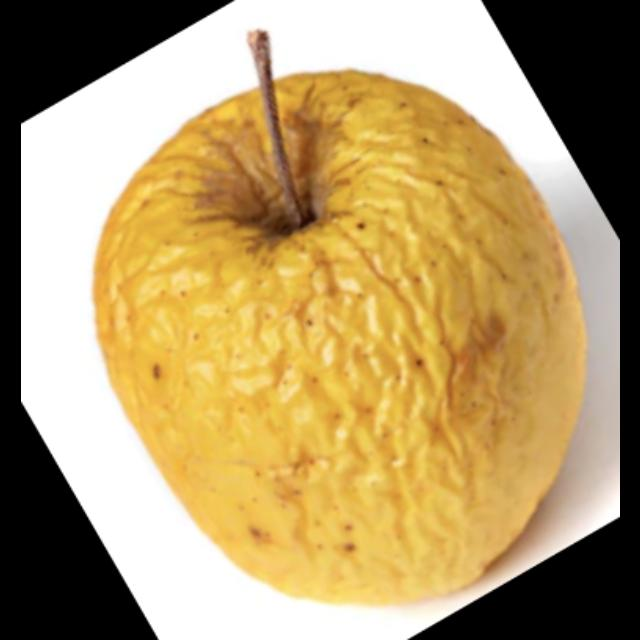Apel Tidak Segar: (88, 63, 590, 612)
